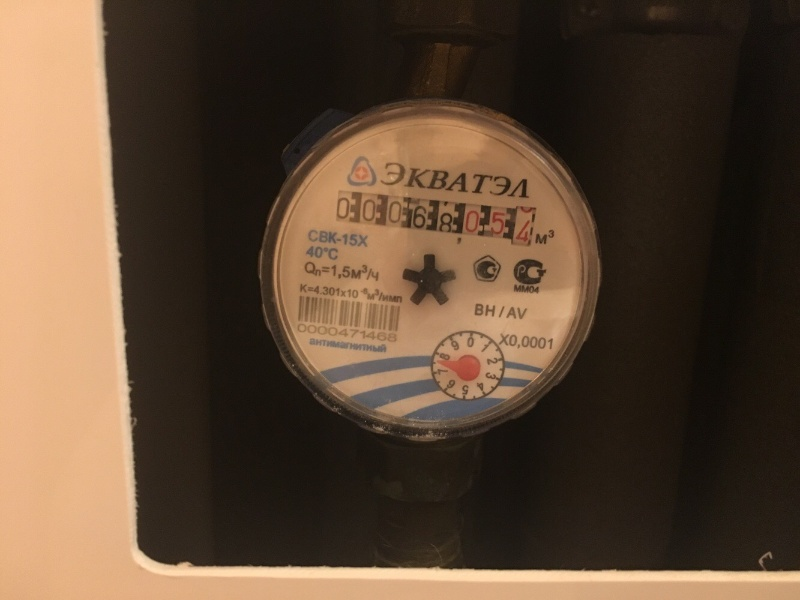meter: (333, 191, 535, 247)
